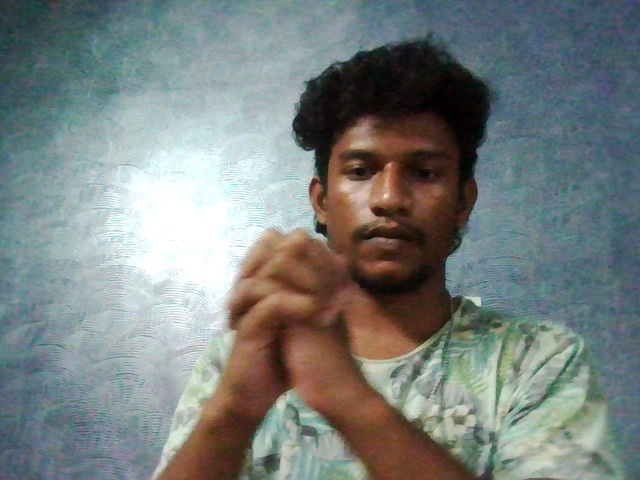together: (177, 206, 429, 465)
